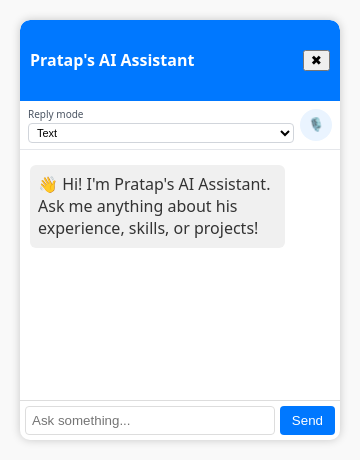
Test: Chatbot voice reply mode › speaks the bot reply when voice reply mode is selected
This screenshot has width=360, height=460.
Select "Voice" in the dropdown named "Reply mode" at (161, 132), box 28,122 -> 294,142
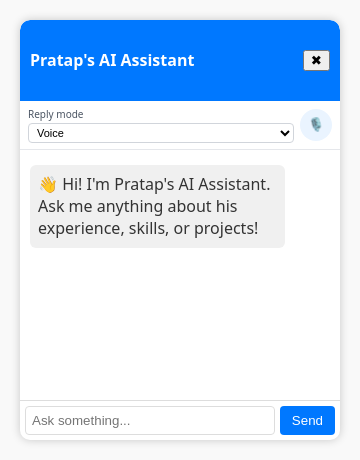
Type "Tell me about Pratap" into the field with placeholder "Ask something..." at (150, 420), box 25,406 -> 275,435
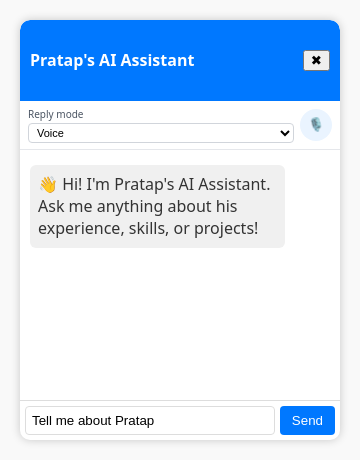
Click the button "Send" at (307, 420), box 280,406 -> 335,435
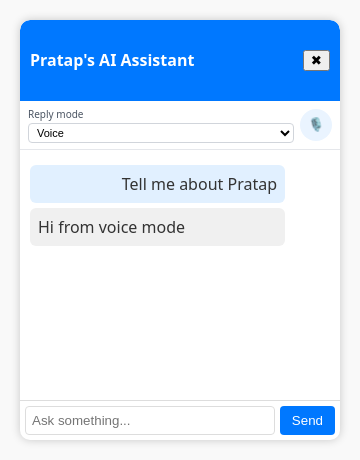
Now the text "Hi from voice mode" is shown, box 30,208 -> 285,246
